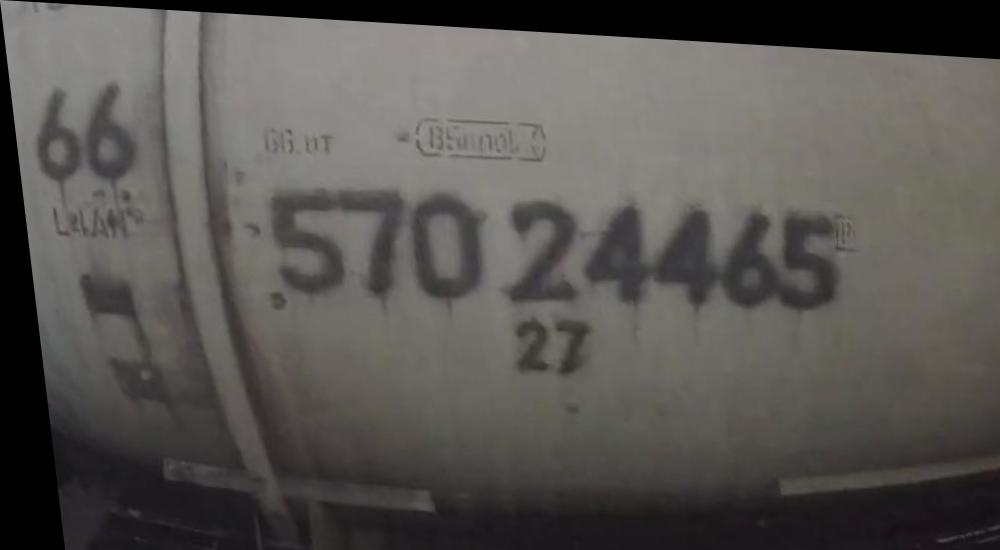Wagon-number: (258, 174, 841, 320)
